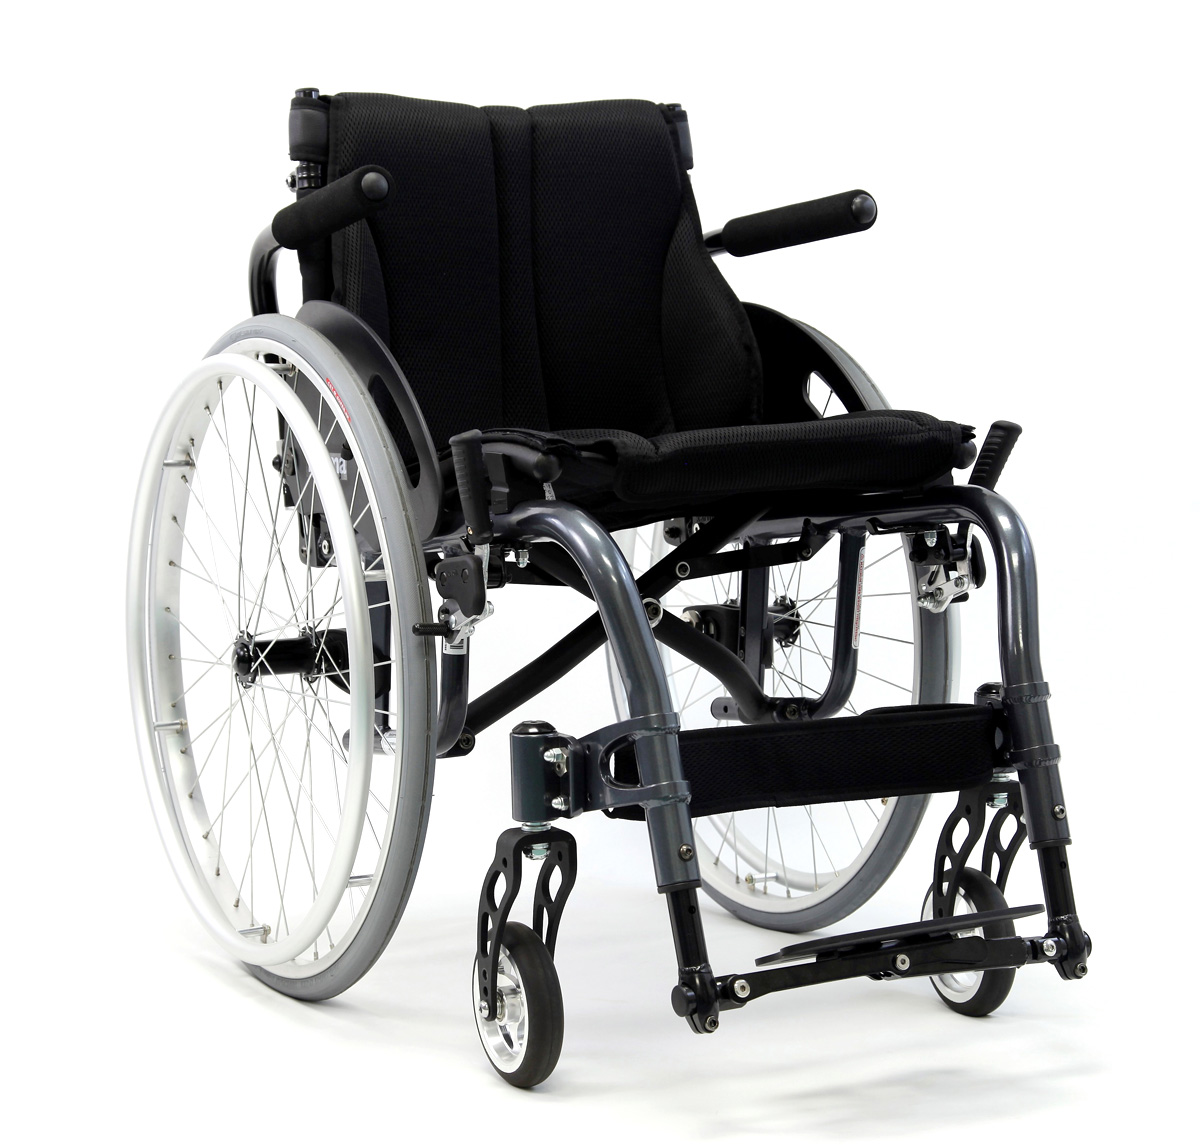wheelchair: (103, 97, 1099, 1105)
